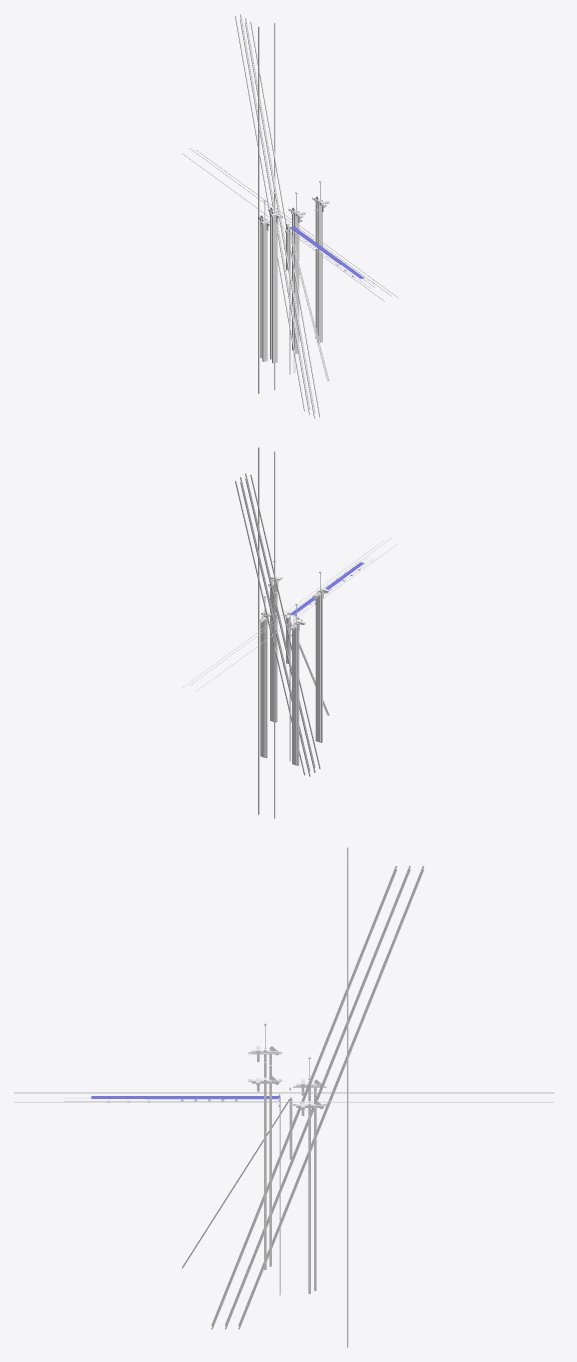
File: TutorialEnvironment.glb
3 renders of one model, top to bottom at view 1: azimuth 30°, elevation 25°; view 2: azimuth 150°, elevation 25°; view 3: azimuth 270°, elevation 25°, orthographic. The views are drawn at different scales.
Visible parts, largest first — view 1: CombinedMesh (×6); view 2: CombinedMesh (×6); view 3: CombinedMesh (×4).
Part boxes in pixels (x1,y1,x2,y2): CombinedMesh (×6): (182,14,398,418); CombinedMesh (×6): (182,447,398,818); CombinedMesh (×4): (14,847,554,1347).
Size of the model in its own units: 395 by 400 by 406.
8 materials, 2 textured.
